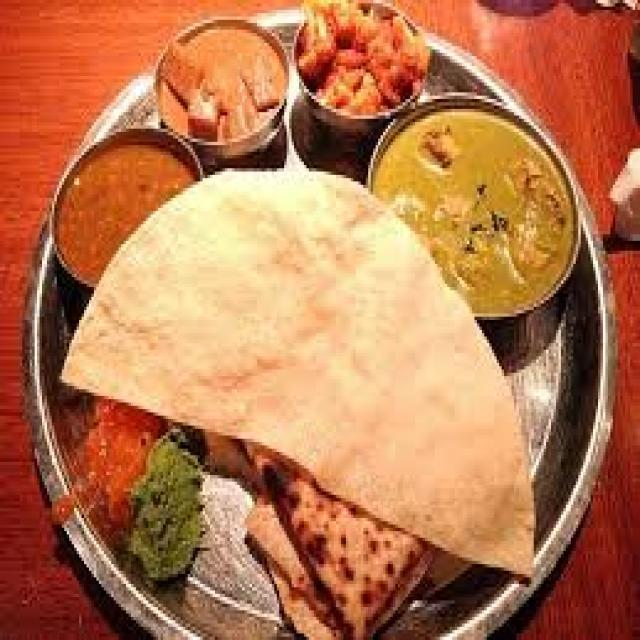pickle: (595, 151, 639, 250)
roti: (392, 105, 587, 329)
veg-fry: (293, 0, 435, 139)
